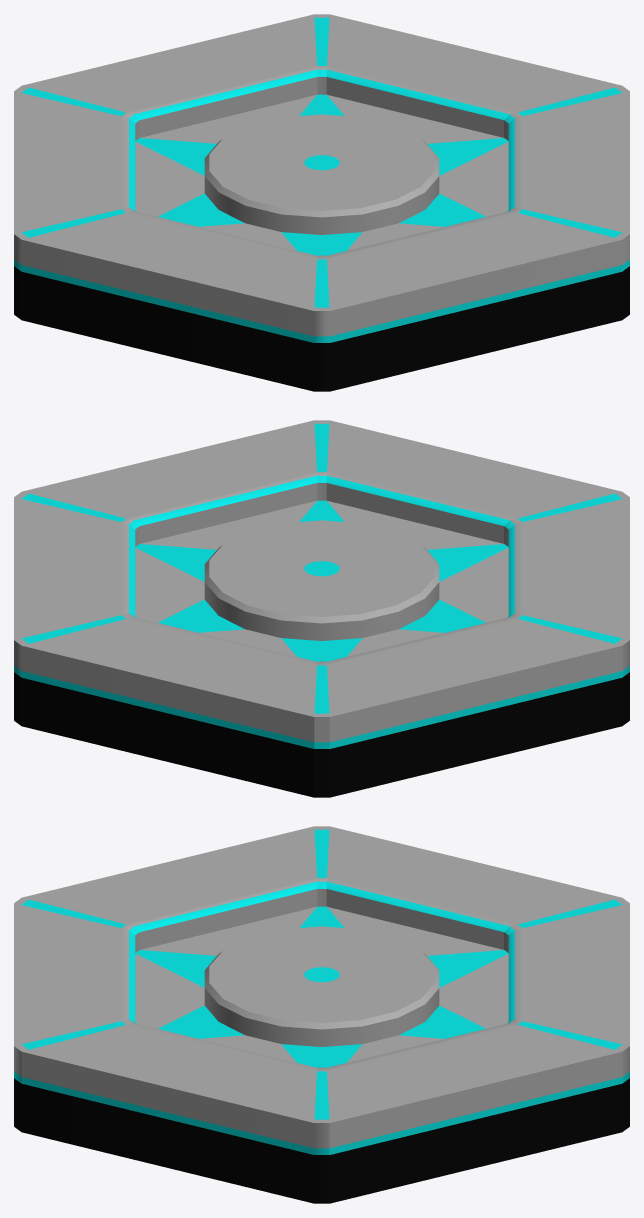
File: BaseSelection.fbx
The picture shows the model from 3 angles, top to bottom: view 1: azimuth 30°, elevation 25°; view 2: azimuth 150°, elevation 25°; view 3: azimuth 270°, elevation 25°; orthographic projection.
Parts seen in each view (by area): view 1: Base; view 2: Base; view 3: Base.
Part boxes in pixels (bbox=[...]): Base: bbox=[14, 14, 629, 391]; Base: bbox=[14, 420, 629, 797]; Base: bbox=[14, 826, 629, 1203].
Size of the model in its own units: 3.95 by 0.5 by 3.46.
